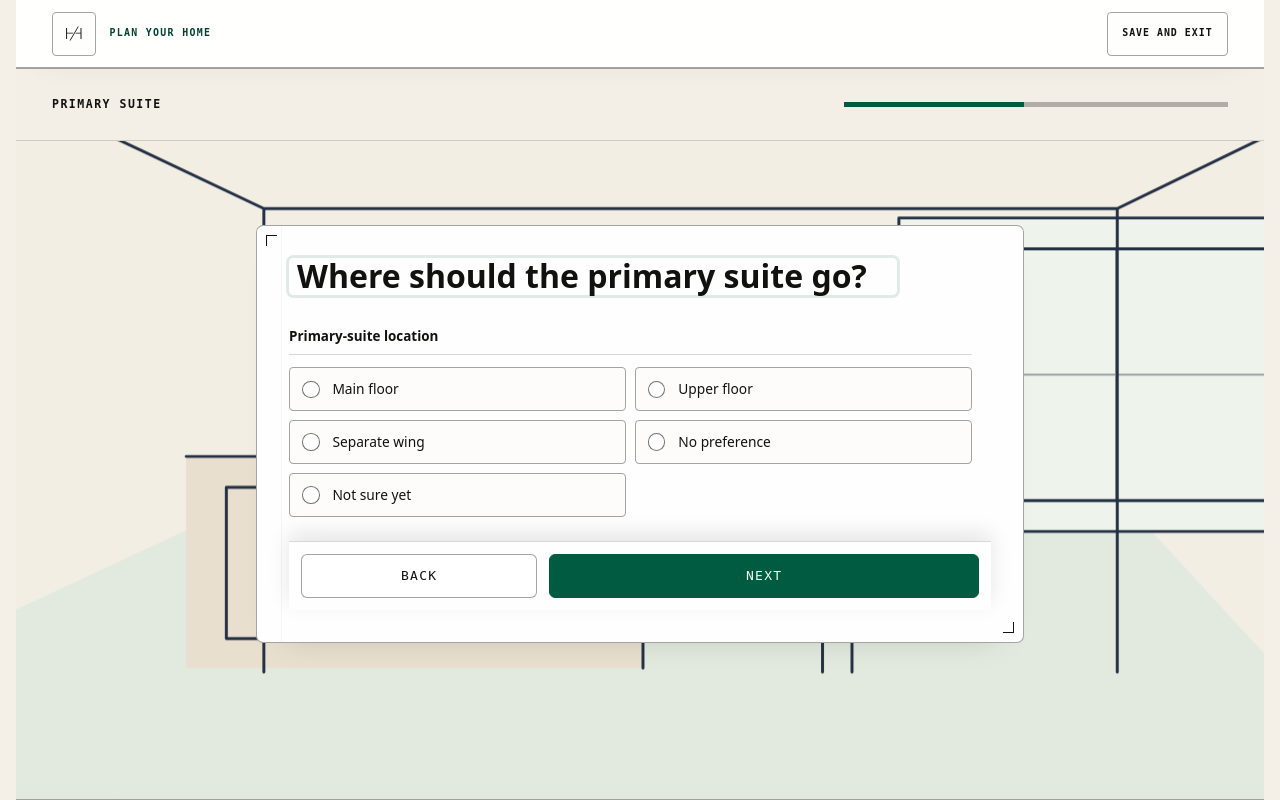
it: Back crosses the kitchen boundary and returns with the Primary Suite answer
Expected: the heading "Where should the primary suite go?" is shown, x1=289 y1=258 x2=897 y2=295
Step 1. Click the radio button labelled "Separate wing" → (378, 441), box x1=289 y1=420 x2=626 y2=464
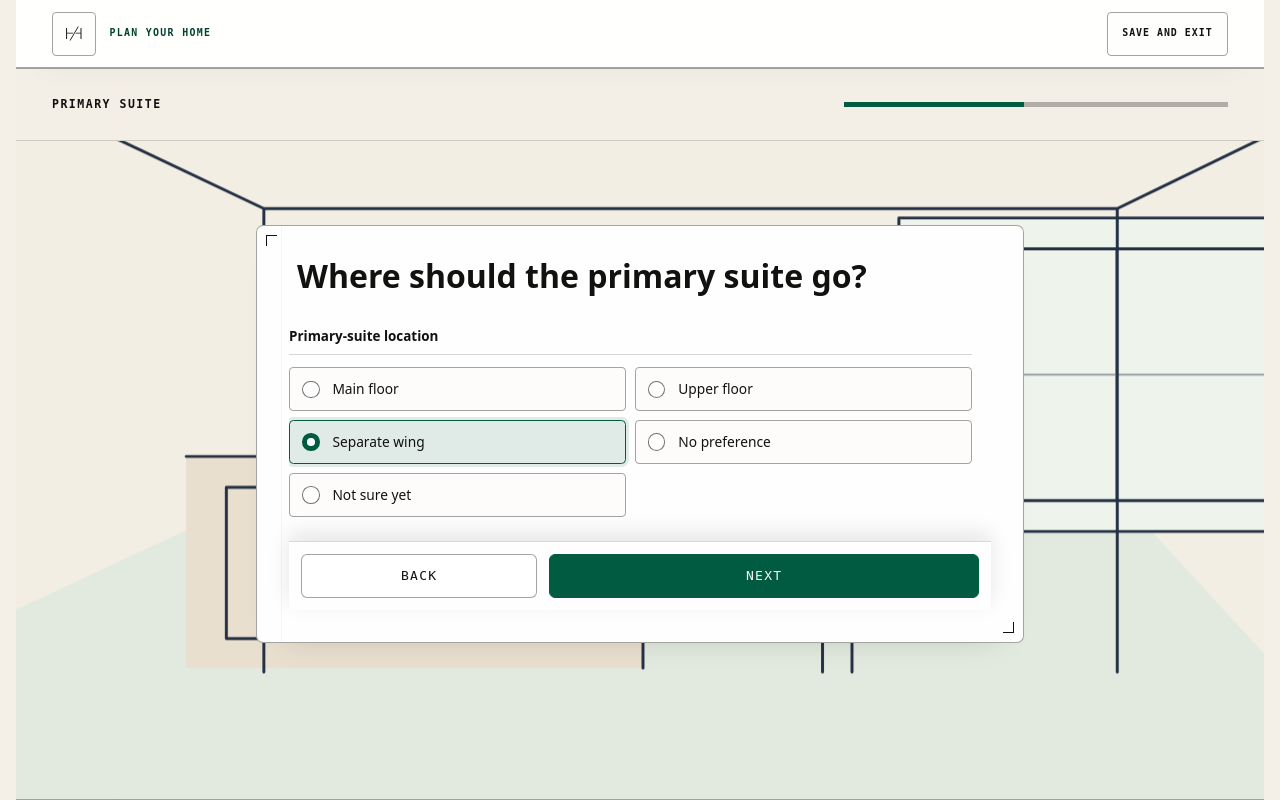
Step 2. Click the button "Next" → (764, 576), box x1=549 y1=554 x2=979 y2=598
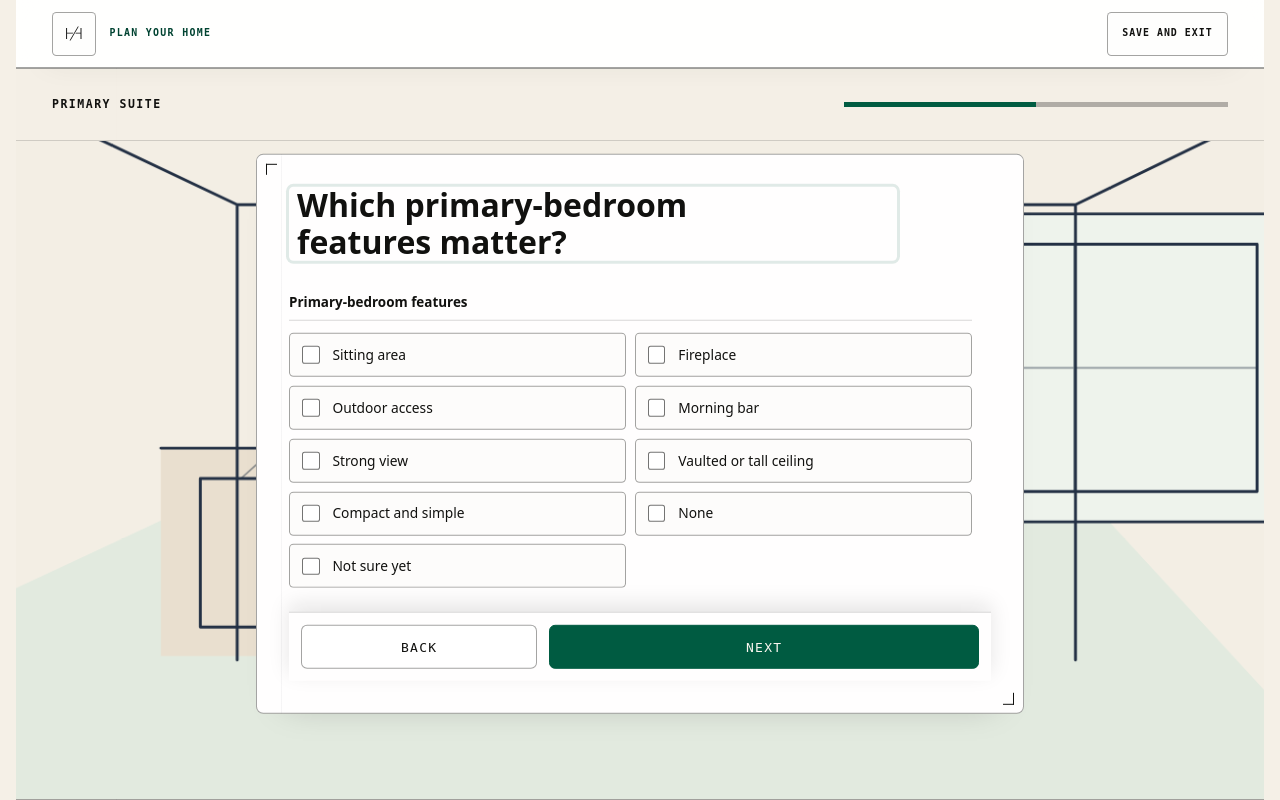
Step 3. Click the button "Back" → (419, 647), box x1=301 y1=625 x2=537 y2=669
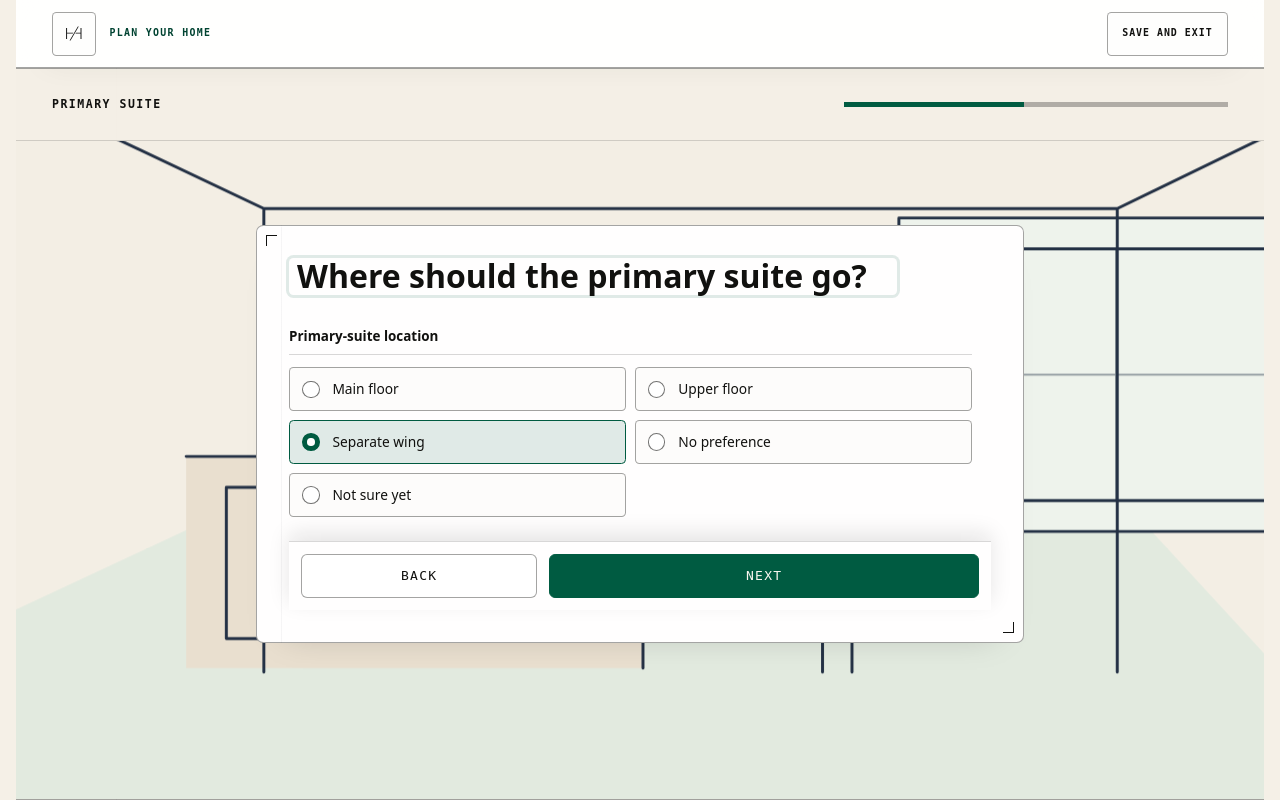
Step 4. Click the button "Back" → (419, 576), box x1=301 y1=554 x2=537 y2=598
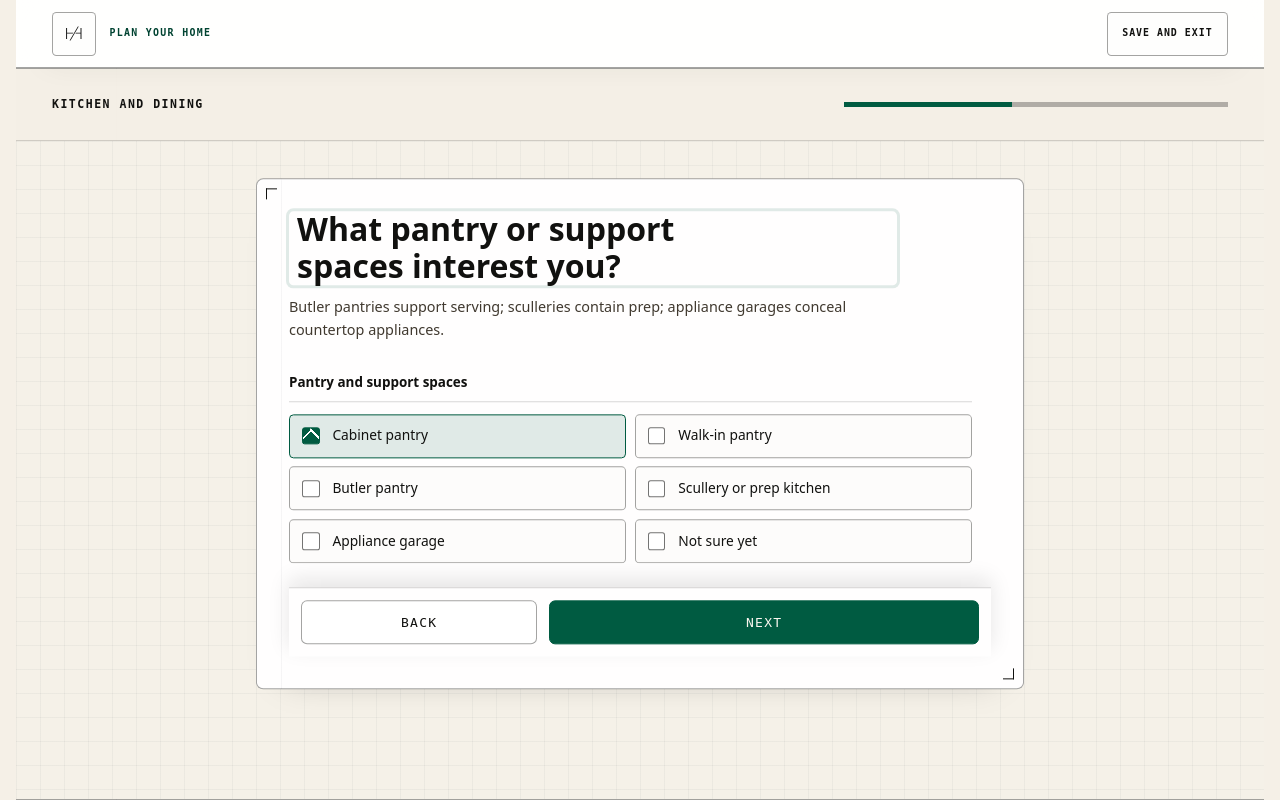
Now the heading "What pantry or support spaces interest you?" is shown, box x1=289 y1=211 x2=897 y2=285
Step 5. Click the button "Next" → (764, 623), box x1=549 y1=601 x2=979 y2=645
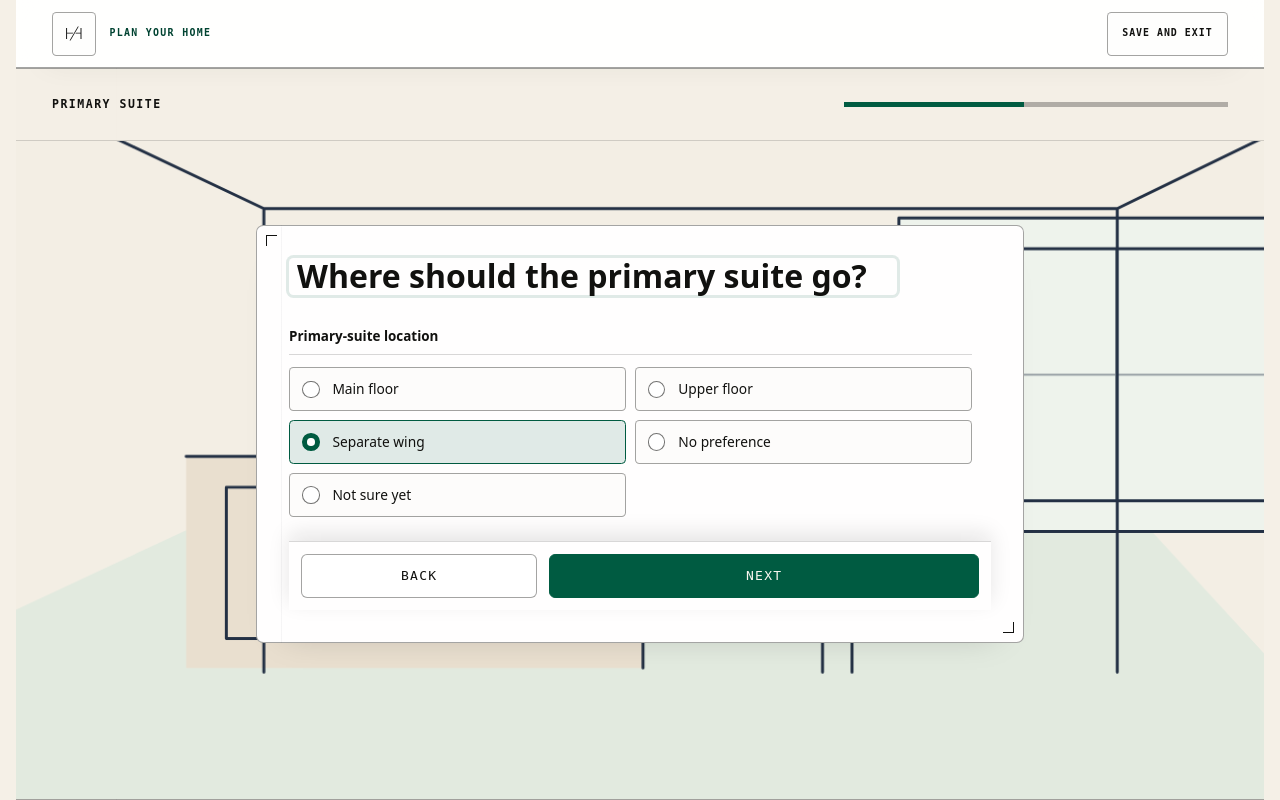
Now the heading "Where should the primary suite go?" is shown, box x1=289 y1=258 x2=897 y2=295
